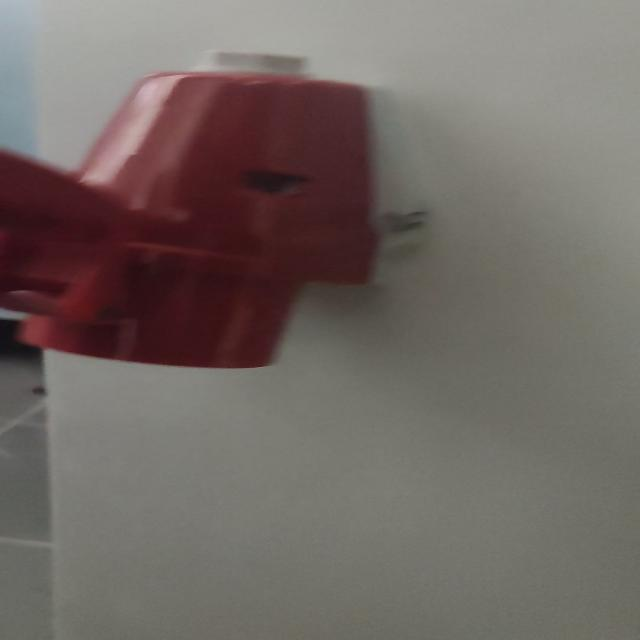400v socket down: (0, 67, 383, 370)
